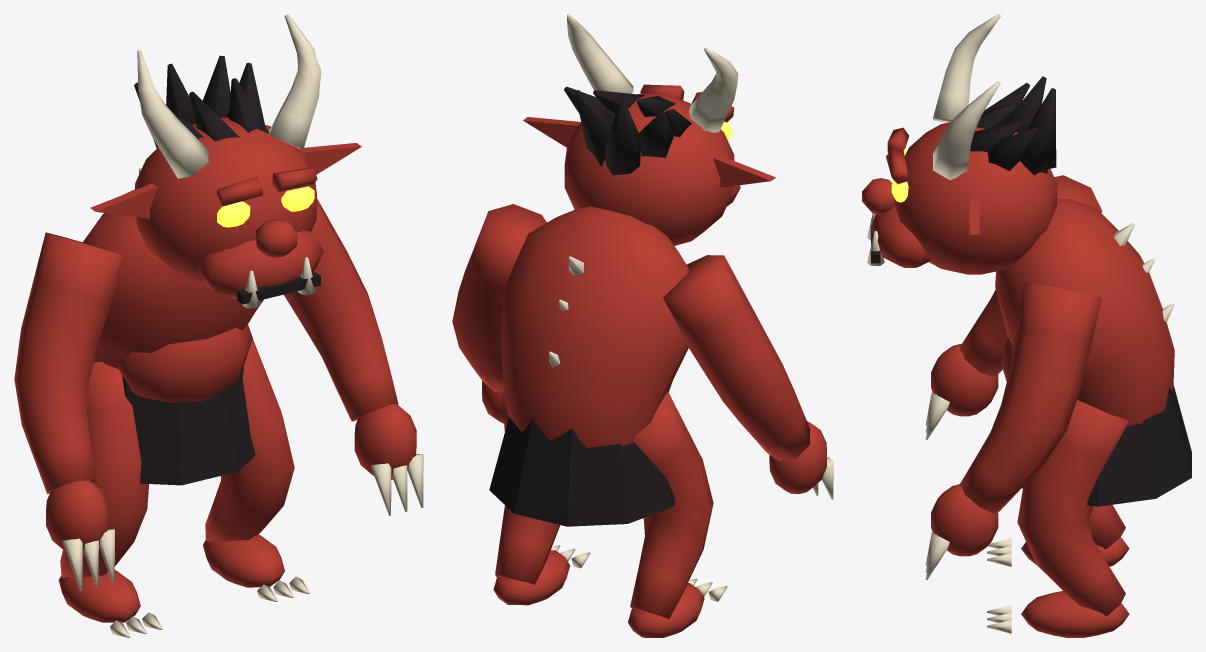
File: wil.glb
3 views of the same model, side by side, from view 1: azimuth 30°, elevation 25°; view 2: azimuth 150°, elevation 25°; view 3: azimuth 270°, elevation 25° (orthographic). The views are drawn at different scales.
Visible parts, largest first — view 1: head_mesh, body_mesh, arm_r_mesh, arm_l_mesh, leg_l_mesh, leg_r_mesh; view 2: body_mesh, head_mesh, arm_r_mesh, leg_r_mesh, arm_l_mesh, leg_l_mesh; view 3: head_mesh, body_mesh, arm_l_mesh, leg_l_mesh, arm_r_mesh, leg_r_mesh.
Part boxes in pixels (x1,y1,x2,y2): head_mesh: [90, 14, 361, 308]; body_mesh: [83, 168, 263, 485]; arm_r_mesh: [14, 232, 122, 590]; arm_l_mesh: [284, 198, 423, 515]; leg_l_mesh: [203, 339, 309, 601]; leg_r_mesh: [58, 362, 162, 637]; body_mesh: [489, 206, 688, 526]; head_mesh: [523, 14, 775, 245]; arm_r_mesh: [663, 255, 833, 499]; leg_r_mesh: [628, 392, 727, 637]; arm_l_mesh: [452, 204, 546, 423]; leg_l_mesh: [493, 389, 590, 605]; head_mesh: [862, 14, 1057, 274]; body_mesh: [995, 198, 1191, 506]; arm_l_mesh: [925, 282, 1102, 580]; leg_l_mesh: [987, 400, 1129, 637]; arm_r_mesh: [925, 175, 1102, 440]; leg_r_mesh: [987, 505, 1129, 566].
Bounding box in the file's own units: 0.7813 × 1.24 × 0.6683.
